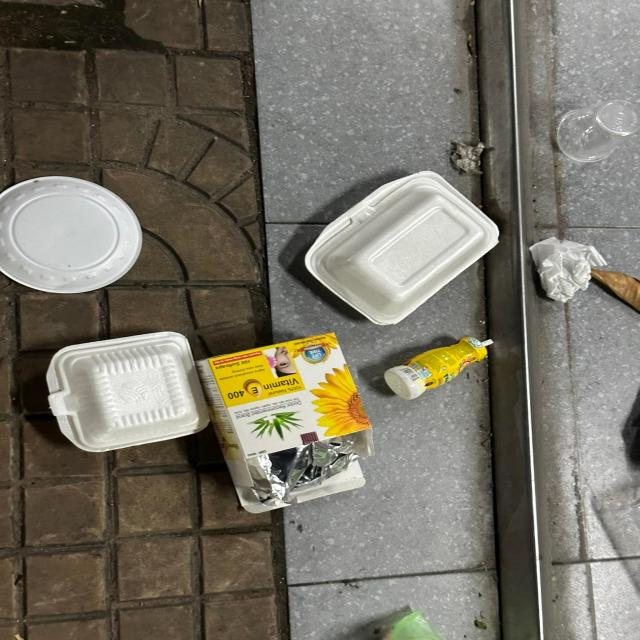cardboard box: (197, 332, 373, 514)
foam box: (307, 172, 498, 327), (46, 332, 212, 452)
milk box: (385, 338, 492, 400)
napkin: (530, 236, 606, 305)
plastic glass: (555, 104, 640, 163)
plastic holder: (0, 177, 144, 293)
